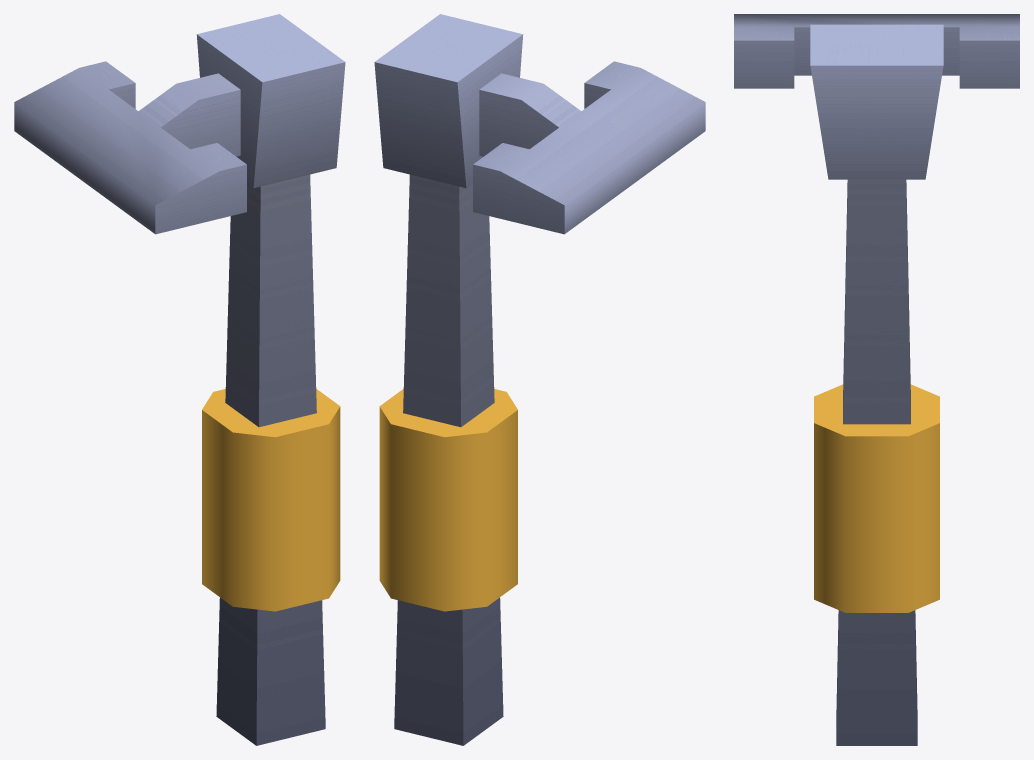
The model's file is enxada.glb.
The picture shows the model from 3 angles, left to right: view 1: azimuth 30°, elevation 25°; view 2: azimuth 150°, elevation 25°; view 3: azimuth 270°, elevation 25°; orthographic projection.
Visible parts, largest first — view 1: tool-hoe-upgraded; view 2: tool-hoe-upgraded; view 3: tool-hoe-upgraded.
Boxes of the visible parts, left/top/right/bottom form: tool-hoe-upgraded: left=14, top=14, right=345, bottom=745; tool-hoe-upgraded: left=374, top=14, right=705, bottom=745; tool-hoe-upgraded: left=734, top=14, right=1019, bottom=745.
Bounding box in the file's own units: 0.0893 × 0.24 × 0.0909.
1 material, 1 textured.
